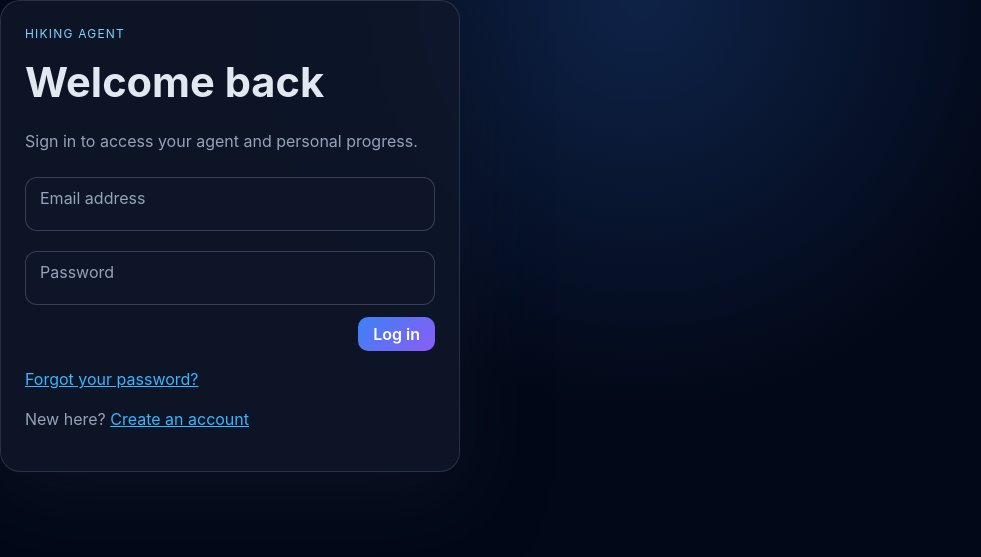
Test case: AuthForm › shows the server error when login fails
The image size is (981, 557).
Type "hiker@example.test" into the field labelled "Email address" at (230, 204), box [25,177,435,231]
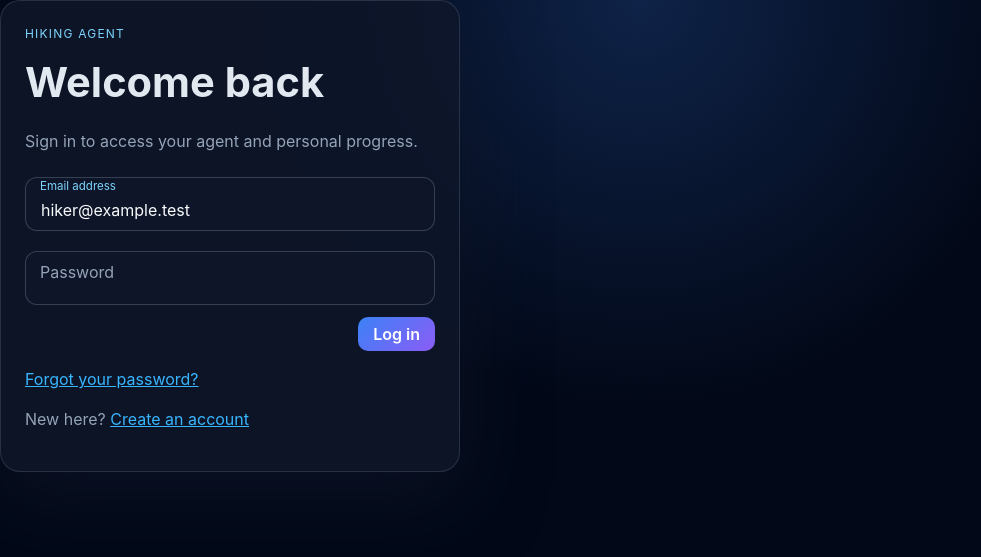
Type "wrong password" into the password field labelled "Password" at (230, 278), box [25,251,435,305]
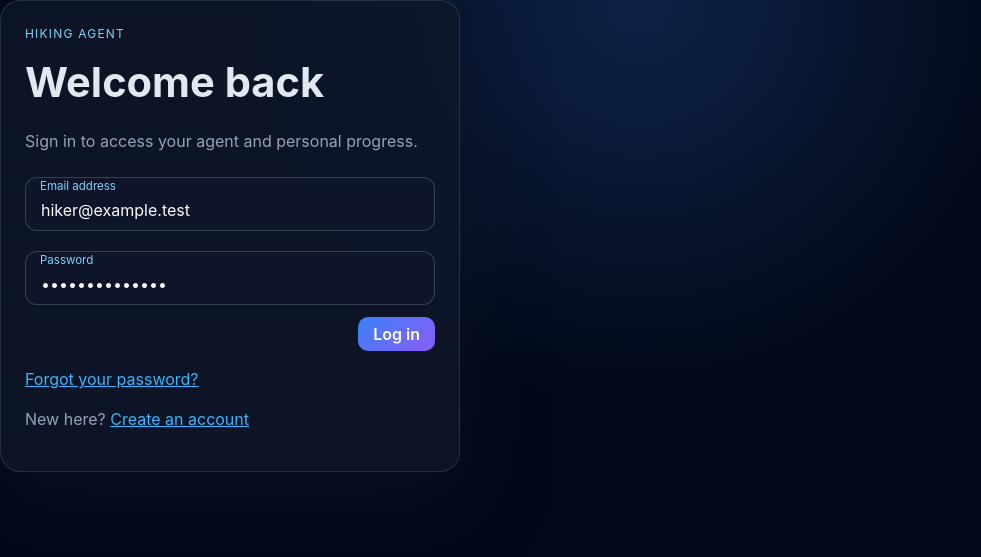
Submit the form from the button "Log in", box [358,317,435,351]
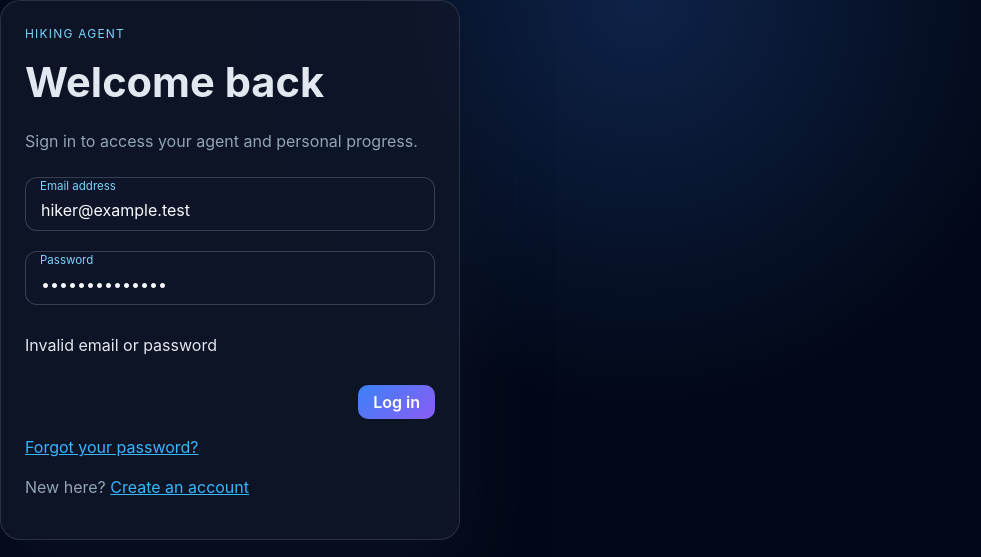
Now the message reads "Invalid email or password", box [25,335,217,355]
